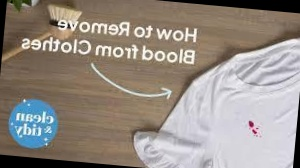blood: (247, 119, 266, 139)
